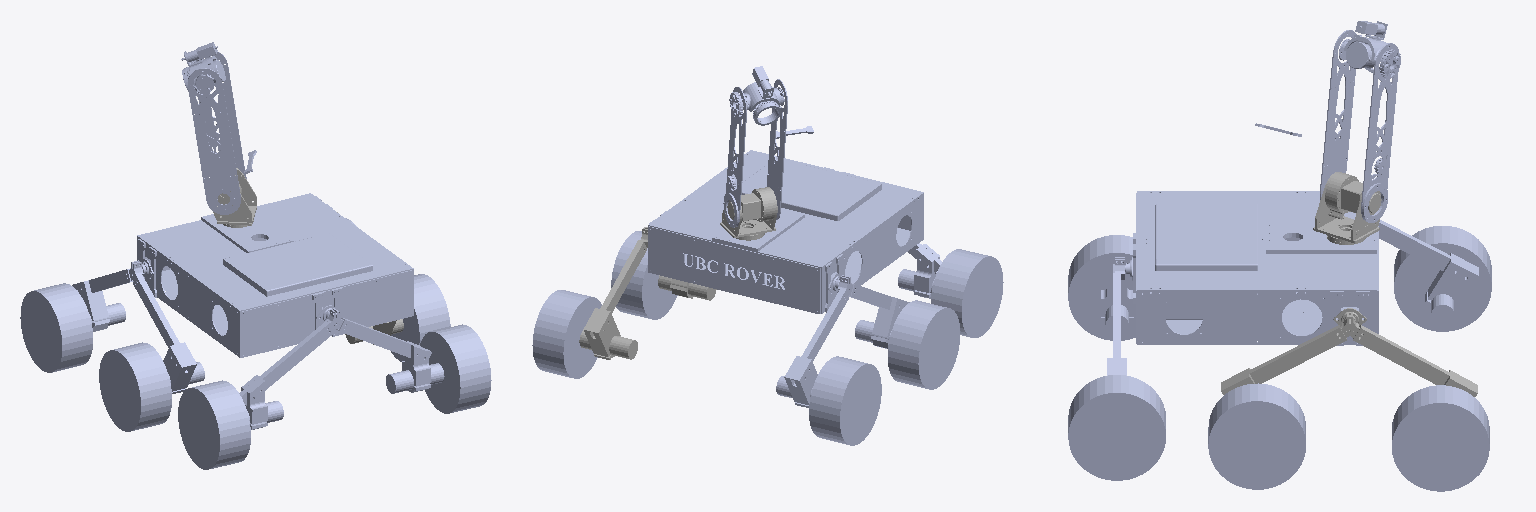
The robot description file, URDF, robot "Full_Assembly":
<?xml version="1.0" encoding="utf-8"?>
<!-- This URDF was automatically created by SolidWorks to URDF Exporter! Originally created by [author] ([email redacted]) 
     Commit Version: 1.6.0-4-g7f85cfe  Build Version: 1.6.7995.38578
     For more information, please see http://wiki.ros.org/sw_urdf_exporter -->
<robot
  name="Full_Assembly">
  <link
    name="Chassis_Frame">
    <inertial>
      <origin
        xyz="0.0752154867174881 -0.267968897733309 -0.165219734896984"
        rpy="0 0 0" />
      <mass
        value="16.2612895685876" />
      <inertia
        ixx="0.137291641953633"
        ixy="-8.1420557815172E-07"
        ixz="5.78919817795369E-06"
        iyy="0.197546865909456"
        iyz="-1.99254410930218E-06"
        izz="0.280705150169245" />
    </inertial>
    <visual>
      <origin
        xyz="0 0 0"
        rpy="0 0 0" />
      <geometry>
        <mesh
          filename="package://Full_Assembly/meshes/Chassis_Frame.STL" />
      </geometry>
      <material
        name="">
        <color
          rgba="0.792156862745098 0.819607843137255 0.933333333333333 1" />
      </material>
    </visual>
    <collision>
      <origin
        xyz="0 0 0"
        rpy="0 0 0" />
      <geometry>
        <mesh
          filename="package://Full_Assembly/meshes/Chassis_Frame.STL" />
      </geometry>
    </collision>
  </link>
  <link
    name="Left_Bogie">
    <inertial>
      <origin
        xyz="0.0073280863678214 0.263181233440572 -0.170423697737644"
        rpy="0 0 0" />
      <mass
        value="3.34124121849343" />
      <inertia
        ixx="0.00818279019634651"
        ixy="8.02314083106796E-09"
        ixz="8.47383063921132E-11"
        iyy="0.00569849669310304"
        iyz="0.00105538423329303"
        izz="0.00691925842668569" />
    </inertial>
    <visual>
      <origin
        xyz="0 0 0"
        rpy="0 0 0" />
      <geometry>
        <mesh
          filename="package://Full_Assembly/meshes/Left_Bogie.STL" />
      </geometry>
      <material
        name="">
        <color
          rgba="0.792156862745098 0.819607843137255 0.933333333333333 1" />
      </material>
    </visual>
    <collision>
      <origin
        xyz="0 0 0"
        rpy="0 0 0" />
      <geometry>
        <mesh
          filename="package://Full_Assembly/meshes/Left_Bogie.STL" />
      </geometry>
    </collision>
  </link>
  <joint
    name="Left_Connect"
    type="fixed">
    <origin
      xyz="-0.248729166875268 0.369784478188223 -0.345807860434498"
      rpy="0.51304684994759 0 3.14159265358979" />
    <parent
      link="Chassis_Frame" />
    <child
      link="Left_Bogie" />
    <axis
      xyz="0 0 0.999995325686932" />
    <limit
      lower="0"
      upper="0"
      effort="0"
      velocity="0" />
  </joint>
  <link
    name="Left_Bogie_Front_Wheel">
    <inertial>
      <origin
        xyz="0.130564845809255 0.0138364458137181 0.0507999999999999"
        rpy="0 0 0" />
      <mass
        value="4.54890356187038" />
      <inertia
        ixx="0.0201202982558325"
        ixy="4.33680868994202E-19"
        ixz="-7.49449804390759E-19"
        iyy="0.0201202982558325"
        iyz="3.12256934504413E-18"
        izz="0.0324145415197282" />
    </inertial>
    <visual>
      <origin
        xyz="0 0 0"
        rpy="0 0 0" />
      <geometry>
        <mesh
          filename="package://Full_Assembly/meshes/Left_Bogie_Front_Wheel.STL" />
      </geometry>
      <material
        name="">
        <color
          rgba="0.792156862745098 0.819607843137255 0.933333333333333 1" />
      </material>
    </visual>
    <collision>
      <origin
        xyz="0 0 0"
        rpy="0 0 0" />
      <geometry>
        <mesh
          filename="package://Full_Assembly/meshes/Left_Bogie_Front_Wheel.STL" />
      </geometry>
    </collision>
  </link>
  <joint
    name="Left_Connect_Front"
    type="continuous">
    <origin
      xyz="0.0829250000000001 -0.0743919967284671 -0.0455554713072941"
      rpy="1.5707963267949 0.618626537467851 1.5707963267949" />
    <parent
      link="Left_Bogie" />
    <child
      link="Left_Bogie_Front_Wheel" />
    <axis
      xyz="0.994431640250643 0.105383646114637 0" />
    <limit
      lower="0"
      upper="0"
      effort="0"
      velocity="0" />
  </joint>
  <link
    name="Left_Bogie_Back_Wheel">
    <inertial>
      <origin
        xyz="0.11938 -5.55111512312578E-17 -0.0508000000000001"
        rpy="0 0 0" />
      <mass
        value="4.54890356187038" />
      <inertia
        ixx="0.0201202982558325"
        ixy="-1.37812516427891E-33"
        ixz="7.34366271496856E-19"
        iyy="0.0201202982558325"
        iyz="3.09652182247156E-18"
        izz="0.0324145415197282" />
    </inertial>
    <visual>
      <origin
        xyz="0 0 0"
        rpy="0 0 0" />
      <geometry>
        <mesh
          filename="package://Full_Assembly/meshes/Left_Bogie_Back_Wheel.STL" />
      </geometry>
      <material
        name="">
        <color
          rgba="0.792156862745098 0.819607843137255 0.933333333333333 1" />
      </material>
    </visual>
    <collision>
      <origin
        xyz="0 0 0"
        rpy="0 0 0" />
      <geometry>
        <mesh
          filename="package://Full_Assembly/meshes/Left_Bogie_Back_Wheel.STL" />
      </geometry>
    </collision>
  </link>
  <joint
    name="Left_Connect_Back"
    type="continuous">
    <origin
      xyz="0.0829250000000004 0.32306401672449 -0.274881622694233"
      rpy="-1.5707963267949 0.51304684994759 1.5707963267949" />
    <parent
      link="Left_Bogie" />
    <child
      link="Left_Bogie_Back_Wheel" />
    <axis
      xyz="1 0 0" />
    <limit
      lower="0"
      upper="0"
      effort="0"
      velocity="0" />
  </joint>
  <link
    name="Right_Bogie">
    <inertial>
      <origin
        xyz="-0.313254747777612 -0.18264536433249 0.0354994663678213"
        rpy="0 0 0" />
      <mass
        value="3.34124121849343" />
      <inertia
        ixx="0.00508994978325339"
        ixy="2.48144667793758E-05"
        ixz="6.94859351828119E-09"
        iyy="0.00752780533653533"
        iyz="4.011859605829E-09"
        izz="0.0081827901963465" />
    </inertial>
    <visual>
      <origin
        xyz="0 0 0"
        rpy="0 0 0" />
      <geometry>
        <mesh
          filename="package://Full_Assembly/meshes/Right_Bogie.STL" />
      </geometry>
      <material
        name="">
        <color
          rgba="0.752941176470588 0.752941176470588 0.752941176470588 1" />
      </material>
    </visual>
    <collision>
      <origin
        xyz="0 0 0"
        rpy="0 0 0" />
      <geometry>
        <mesh
          filename="package://Full_Assembly/meshes/Right_Bogie.STL" />
      </geometry>
    </collision>
  </link>
  <joint
    name="Right_Connect"
    type="fixed">
    <origin
      xyz="0.365966373124733 0.366267486623604 -0.182466340171182"
      rpy="1.5707963267949 0 1.5707963267949" />
    <parent
      link="Chassis_Frame" />
    <child
      link="Right_Bogie" />
    <axis
      xyz="0 0 1" />
    <limit
      lower="0"
      upper="0"
      effort="0"
      velocity="0" />
  </joint>
  <link
    name="Right_Bogie_Front_Wheel">
    <inertial>
      <origin
        xyz="-0.0904301784153555 5.55111512312578E-17 0.0508000000000001"
        rpy="0 0 0" />
      <mass
        value="4.54890356187038" />
      <inertia
        ixx="0.0201202982558325"
        ixy="-4.89110791271853E-33"
        ixz="-7.34366271496863E-19"
        iyy="0.0201202982558325"
        iyz="1.27619897151731E-17"
        izz="0.0324145415197282" />
    </inertial>
    <visual>
      <origin
        xyz="0 0 0"
        rpy="0 0 0" />
      <geometry>
        <mesh
          filename="package://Full_Assembly/meshes/Right_Bogie_Front_Wheel.STL" />
      </geometry>
      <material
        name="">
        <color
          rgba="0.792156862745098 0.819607843137255 0.933333333333333 1" />
      </material>
    </visual>
    <collision>
      <origin
        xyz="0 0 0"
        rpy="0 0 0" />
      <geometry>
        <mesh
          filename="package://Full_Assembly/meshes/Right_Bogie_Front_Wheel.STL" />
      </geometry>
    </collision>
  </link>
  <joint
    name="Right_Connect_Front"
    type="continuous">
    <origin
      xyz="0 -0.244262138749221 0.11109638"
      rpy="0 0 0" />
    <parent
      link="Right_Bogie" />
    <child
      link="Right_Bogie_Front_Wheel" />
    <axis
      xyz="1 0 0" />
    <limit
      lower="0"
      upper="0"
      effort="0"
      velocity="0" />
  </joint>
  <link
    name="Right_Bogie_Back_Wheel">
    <inertial>
      <origin
        xyz="-0.130564845809256 -0.013836445813718 0.0508"
        rpy="0 0 0" />
      <mass
        value="4.54890356187038" />
      <inertia
        ixx="0.0201202982558325"
        ixy="4.33680868994202E-19"
        ixz="-2.06450675522236E-18"
        iyy="0.0201202982558325"
        iyz="1.26266851207273E-17"
        izz="0.0324145415197282" />
    </inertial>
    <visual>
      <origin
        xyz="0 0 0"
        rpy="0 0 0" />
      <geometry>
        <mesh
          filename="package://Full_Assembly/meshes/Right_Bogie_Back_Wheel.STL" />
      </geometry>
      <material
        name="">
        <color
          rgba="0.792156862745098 0.819607843137255 0.933333333333333 1" />
      </material>
    </visual>
    <collision>
      <origin
        xyz="0 0 0"
        rpy="0 0 0" />
      <geometry>
        <mesh
          filename="package://Full_Assembly/meshes/Right_Bogie_Back_Wheel.STL" />
      </geometry>
    </collision>
  </link>
  <joint
    name="Right_Connect_Back"
    type="continuous">
    <origin
      xyz="-0.406064141803662 -0.239545992505552 0.11109638"
      rpy="0 0 -0.105579687520261" />
    <parent
      link="Right_Bogie" />
    <child
      link="Right_Bogie_Back_Wheel" />
    <axis
      xyz="0.994431640250643 0.105383646114637 0" />
    <limit
      lower="0"
      upper="0"
      effort="0"
      velocity="0" />
  </joint>
  <link
    name="Back_Bogie">
    <inertial>
      <origin
        xyz="-0.000289279887737193 0.0636173838408471 -0.0148260057036792"
        rpy="0 0 0" />
      <mass
        value="2.03126342918492" />
      <inertia
        ixx="0.0076939410308437"
        ixy="-1.47557141759033E-05"
        ixz="-6.6684282943362E-09"
        iyy="0.00629537083030239"
        iyz="2.25382545208118E-08"
        izz="0.00234582536528961" />
    </inertial>
    <visual>
      <origin
        xyz="0 0 0"
        rpy="0 0 0" />
      <geometry>
        <mesh
          filename="package://Full_Assembly/meshes/Back_Bogie.STL" />
      </geometry>
      <material
        name="">
        <color
          rgba="0.792156862745098 0.819607843137255 0.933333333333333 1" />
      </material>
    </visual>
    <collision>
      <origin
        xyz="0 0 0"
        rpy="0 0 0" />
      <geometry>
        <mesh
          filename="package://Full_Assembly/meshes/Back_Bogie.STL" />
      </geometry>
    </collision>
  </link>
  <joint
    name="Back_Connect"
    type="fixed">
    <origin
      xyz="0.055470277282733 -0.512439057564754 -0.421614058115213"
      rpy="1.5602438137183 -0.0105513381921141 -1.57068498159409" />
    <parent
      link="Chassis_Frame" />
    <child
      link="Back_Bogie" />
    <axis
      xyz="-0.999772994789274 0.0211020967603054 0" />
    <limit
      lower="0"
      upper="0"
      effort="0"
      velocity="0" />
  </joint>
  <link
    name="Back_Bogie_Left_Wheel">
    <inertial>
      <origin
        xyz="-1.14531348801572E-05 -0.00108536680223514 -0.0520615041256314"
        rpy="0 0 0" />
      <mass
        value="4.54890356187038" />
      <inertia
        ixx="0.0201202982558325"
        ixy="-5.42101086242752E-20"
        ixz="-1.75552403538904E-17"
        iyy="0.0201202982558325"
        iyz="-1.1895911365396E-17"
        izz="0.0324145415197282" />
    </inertial>
    <visual>
      <origin
        xyz="0 0 0"
        rpy="0 0 0" />
      <geometry>
        <mesh
          filename="package://Full_Assembly/meshes/Back_Bogie_Left_Wheel.STL" />
      </geometry>
      <material
        name="">
        <color
          rgba="0.792156862745098 0.819607843137255 0.933333333333333 1" />
      </material>
    </visual>
    <collision>
      <origin
        xyz="0 0 0"
        rpy="0 0 0" />
      <geometry>
        <mesh
          filename="package://Full_Assembly/meshes/Back_Bogie_Left_Wheel.STL" />
      </geometry>
    </collision>
  </link>
  <joint
    name="Back_Connect_Left"
    type="continuous">
    <origin
      xyz="0 -0.000691989544948202 0.327180673083095"
      rpy="3.14159265358979 0 3.12048880228838" />
    <parent
      link="Back_Bogie" />
    <child
      link="Back_Bogie_Left_Wheel" />
    <axis
      xyz="0.00011133900256751 0.0105511424118299 0.999944328949083" />
    <limit
      lower="0"
      upper="0"
      effort="0"
      velocity="0" />
  </joint>
  <link
    name="Back_Bogie_Right_Wheel">
    <inertial>
      <origin
        xyz="-1.11022302462516E-16 -0.00108528771922412 0.0520482833385267"
        rpy="0 0 0" />
      <mass
        value="4.54890356187038" />
      <inertia
        ixx="0.0201202982558325"
        ixy="-1.56128184385634E-21"
        ixz="6.18841737345298E-18"
        iyy="0.0201202982558325"
        iyz="1.35498166506376E-16"
        izz="0.0324145415197282" />
    </inertial>
    <visual>
      <origin
        xyz="0 0 0"
        rpy="0 0 0" />
      <geometry>
        <mesh
          filename="package://Full_Assembly/meshes/Back_Bogie_Right_Wheel.STL" />
      </geometry>
      <material
        name="">
        <color
          rgba="0.792156862745098 0.819607843137255 0.933333333333333 1" />
      </material>
    </visual>
    <collision>
      <origin
        xyz="0 0 0"
        rpy="0 0 0" />
      <geometry>
        <mesh
          filename="package://Full_Assembly/meshes/Back_Bogie_Right_Wheel.STL" />
      </geometry>
    </collision>
  </link>
  <joint
    name="Back_Connect_Right"
    type="continuous">
    <origin
      xyz="-3.02068909376896E-05 -0.0028625836475128 -0.356845710106984"
      rpy="3.14159265358926 0 -0.0105519256507057" />
    <parent
      link="Back_Bogie" />
    <child
      link="Back_Bogie_Right_Wheel" />
    <axis
      xyz="0 0.0105517298382485 -0.999944328949077" />
  </joint>
  <link
    name="Arm">
    <inertial>
      <origin
        xyz="-0.0477985055997259 -0.0352326124467944 0.003129556082442"
        rpy="0 0 0" />
      <mass
        value="0.232083853065316" />
      <inertia
        ixx="0.000808900388660283"
        ixy="-0.00045117057053435"
        ixz="3.23058256055578E-19"
        iyy="0.00108878956515546"
        iyz="2.88705620092326E-19"
        izz="0.0018961637397099" />
    </inertial>
    <visual>
      <origin
        xyz="0 0 0"
        rpy="0 0 0" />
      <geometry>
        <mesh
          filename="package://Full_Assembly/meshes/Arm.STL" />
      </geometry>
      <material
        name="">
        <color
          rgba="0.792156862745098 0.819607843137255 0.933333333333333 1" />
      </material>
    </visual>
    <collision>
      <origin
        xyz="0 0 0"
        rpy="0 0 0" />
      <geometry>
        <mesh
          filename="package://Full_Assembly/meshes/Arm.STL" />
      </geometry>
    </collision>
  </link>
  <joint
    name="Arm"
    type="fixed">
    <origin
      xyz="0.0726472931247326 0.0460194024352475 -0.0975250000000328"
      rpy="3.14159265358979 0 2.20588191770284" />
    <parent
      link="Chassis_Frame" />
    <child
      link="Arm" />
    <axis
      xyz="0 0 0" />
  </joint>
  <link
    name="Axis_1">
    <inertial>
      <origin
        xyz="0.134248295686674 -0.553037496938444 -0.238224576973824"
        rpy="0 0 0" />
      <mass
        value="0.81786771052049" />
      <inertia
        ixx="0.000893192189106475"
        ixy="-0.000131553977160576"
        ixz="1.35516237779562E-05"
        iyy="0.000906560350906043"
        iyz="-3.27360180369472E-06"
        izz="0.0010445731022166" />
    </inertial>
    <visual>
      <origin
        xyz="0 0 0"
        rpy="0 0 0" />
      <geometry>
        <mesh
          filename="package://Full_Assembly/meshes/Axis_1.STL" />
      </geometry>
      <material
        name="">
        <color
          rgba="0.752941176470588 0.752941176470588 0.752941176470588 1" />
      </material>
    </visual>
    <collision>
      <origin
        xyz="0 0 0"
        rpy="0 0 0" />
      <geometry>
        <mesh
          filename="package://Full_Assembly/meshes/Axis_1.STL" />
      </geometry>
    </collision>
  </link>
  <joint
    name="J1"
    type="continuous">
    <origin
      xyz="0.414827702718078 0.456964033568699 -0.174125226221685"
      rpy="-0.577361508804227 -0.0919314877859293 -0.927540423551142" />
    <parent
      link="Arm" />
    <child
      link="Axis_1" />
    <axis
      xyz="0 0 0" />
  </joint>
  <link
    name="Axis_2">
    <inertial>
      <origin
        xyz="-0.0732110133685279 -0.0167830116009002 0.149230653314851"
        rpy="0 0 0" />
      <mass
        value="0.2404230761299" />
      <inertia
        ixx="0.00319340251498069"
        ixy="-5.27621649126873E-07"
        ixz="7.7377149618105E-07"
        iyy="0.00292575082471902"
        iyz="0.000400748139546237"
        izz="0.000304582219218908" />
    </inertial>
    <visual>
      <origin
        xyz="0 0 0"
        rpy="0 0 0" />
      <geometry>
        <mesh
          filename="package://Full_Assembly/meshes/Axis_2.STL" />
      </geometry>
      <material
        name="">
        <color
          rgba="0.792156862745098 0.819607843137255 0.933333333333333 1" />
      </material>
    </visual>
    <collision>
      <origin
        xyz="0 0 0"
        rpy="0 0 0" />
      <geometry>
        <mesh
          filename="package://Full_Assembly/meshes/Axis_2.STL" />
      </geometry>
    </collision>
  </link>
  <joint
    name="J2"
    type="continuous">
    <origin
      xyz="0.195325660091703 -0.578995012618406 -0.306844147771886"
      rpy="-2.83566285494556 0.505369095958377 -0.825410998814657" />
    <parent
      link="Axis_1" />
    <child
      link="Axis_2" />
    <axis
      xyz="0 0 0" />
  </joint>
  <link
    name="Axis_3">
    <inertial>
      <origin
        xyz="-0.0116195005837259 -0.297812414693222 -0.244557056519289"
        rpy="0 0 0" />
      <mass
        value="0.310417797821433" />
      <inertia
        ixx="0.000205636365794706"
        ixy="2.3887477537068E-05"
        ixz="4.18215227555799E-05"
        iyy="0.000298887143687147"
        iyz="7.76728248385818E-06"
        izz="0.000251643089833438" />
    </inertial>
    <visual>
      <origin
        xyz="0 0 0"
        rpy="0 0 0" />
      <geometry>
        <mesh
          filename="package://Full_Assembly/meshes/Axis_3.STL" />
      </geometry>
      <material
        name="">
        <color
          rgba="0.792156862745098 0.819607843137255 0.933333333333333 1" />
      </material>
    </visual>
    <collision>
      <origin
        xyz="0 0 0"
        rpy="0 0 0" />
      <geometry>
        <mesh
          filename="package://Full_Assembly/meshes/Axis_3.STL" />
      </geometry>
    </collision>
  </link>
  <joint
    name="J3"
    type="fixed">
    <origin
      xyz="-0.22723 0.14584 0.083227"
      rpy="-1.5708 0.13943 0.49635" />
    <parent
      link="Axis_2" />
    <child
      link="Axis_3" />
    <axis
      xyz="0 0 0" />
  </joint>
  <link
    name="Axis_4">
    <inertial>
      <origin
        xyz="0.0285964513401345 -0.0832967816533951 -0.204454386895438"
        rpy="0 0 0" />
      <mass
        value="0.135410062287196" />
      <inertia
        ixx="8.95626812601844E-05"
        ixy="-9.38649000207083E-06"
        ixz="9.5175376289745E-06"
        iyy="8.96432017854978E-05"
        iyz="-9.48319687860513E-06"
        izz="8.99982098384798E-05" />
    </inertial>
    <visual>
      <origin
        xyz="0 0 0"
        rpy="0 0 0" />
      <geometry>
        <mesh
          filename="package://Full_Assembly/meshes/Axis_4.STL" />
      </geometry>
      <material
        name="">
        <color
          rgba="0.792156862745098 0.819607843137255 0.933333333333333 1" />
      </material>
    </visual>
    <collision>
      <origin
        xyz="0 0 0"
        rpy="0 0 0" />
      <geometry>
        <mesh
          filename="package://Full_Assembly/meshes/Axis_4.STL" />
      </geometry>
    </collision>
  </link>
  <joint
    name="J4"
    type="fixed">
    <origin
      xyz="-0.19367 -0.18832 -0.1742"
      rpy="1.5708 0.94291 -2.2385" />
    <parent
      link="Axis_3" />
    <child
      link="Axis_4" />
    <axis
      xyz="0 0 0" />
  </joint>
</robot>

--- Render facts (derived) ---
The picture shows the robot from 3 angles, left to right: view 1: azimuth 30°, elevation 25°; view 2: azimuth 150°, elevation 25°; view 3: azimuth 270°, elevation 25°; orthographic projection.
Robot: Full_Assembly — 15 links, 14 joints (8 continuous, 6 fixed); root link Chassis_Frame; default pose: all joints at 0.
Visible links, largest first — view 1: Chassis_Frame, Back_Bogie, Axis_2, Back_Bogie_Left_Wheel, Left_Bogie_Back_Wheel, Left_Bogie_Front_Wheel, Back_Bogie_Right_Wheel, Left_Bogie, Right_Bogie_Back_Wheel, Axis_1, Axis_3; view 2: Chassis_Frame, Left_Bogie_Front_Wheel, Left_Bogie_Back_Wheel, Back_Bogie_Left_Wheel, Left_Bogie, Right_Bogie_Front_Wheel, Right_Bogie, Axis_2, Right_Bogie_Back_Wheel, Axis_1, Back_Bogie, Axis_3; view 3: Chassis_Frame, Right_Bogie_Front_Wheel, Back_Bogie_Right_Wheel, Right_Bogie_Back_Wheel, Axis_2, Left_Bogie_Front_Wheel, Right_Bogie, Back_Bogie_Left_Wheel, Left_Bogie, Axis_1, Back_Bogie, Axis_3.
Boxes of the visible links, <box> form: Chassis_Frame: <box>137,193,413,357</box>; Back_Bogie: <box>239,305,444,429</box>; Axis_2: <box>188,51,256,214</box>; Back_Bogie_Left_Wheel: <box>178,380,250,469</box>; Left_Bogie_Back_Wheel: <box>99,342,171,431</box>; Left_Bogie_Front_Wheel: <box>20,283,92,372</box>; Back_Bogie_Right_Wheel: <box>420,324,491,413</box>; Left_Bogie: <box>72,259,204,393</box>; Right_Bogie_Back_Wheel: <box>391,274,450,361</box>; Axis_1: <box>213,168,256,227</box>; Axis_3: <box>181,42,225,150</box>; Chassis_Frame: <box>648,150,923,313</box>; Left_Bogie_Front_Wheel: <box>809,356,881,445</box>; Left_Bogie_Back_Wheel: <box>888,300,959,389</box>; Back_Bogie_Left_Wheel: <box>931,249,1003,337</box>; Left_Bogie: <box>776,273,909,407</box>; Right_Bogie_Front_Wheel: <box>532,290,601,378</box>; Right_Bogie: <box>579,227,716,359</box>; Axis_2: <box>723,79,813,227</box>; Right_Bogie_Back_Wheel: <box>611,231,677,319</box>; Axis_1: <box>720,187,777,240</box>; Back_Bogie: <box>898,243,941,298</box>; Axis_3: <box>727,66,784,189</box>; Chassis_Frame: <box>1133,191,1378,345</box>; Right_Bogie_Front_Wheel: <box>1392,385,1489,491</box>; Back_Bogie_Right_Wheel: <box>1068,375,1165,480</box>; Right_Bogie_Back_Wheel: <box>1208,383,1305,489</box>; Axis_2: <box>1255,30,1398,222</box>; Left_Bogie_Front_Wheel: <box>1394,226,1491,331</box>; Right_Bogie: <box>1221,308,1477,396</box>; Back_Bogie_Left_Wheel: <box>1068,235,1135,340</box>; Left_Bogie: <box>1379,220,1478,325</box>; Axis_1: <box>1313,172,1381,244</box>; Back_Bogie: <box>1101,257,1133,375</box>; Axis_3: <box>1339,21,1400,174</box>.
Size in the robot's own frame: 1.01 by 1.03 by 1 metres.
15 mesh visuals loaded from 15 distinct referenced files (15 binary STL).